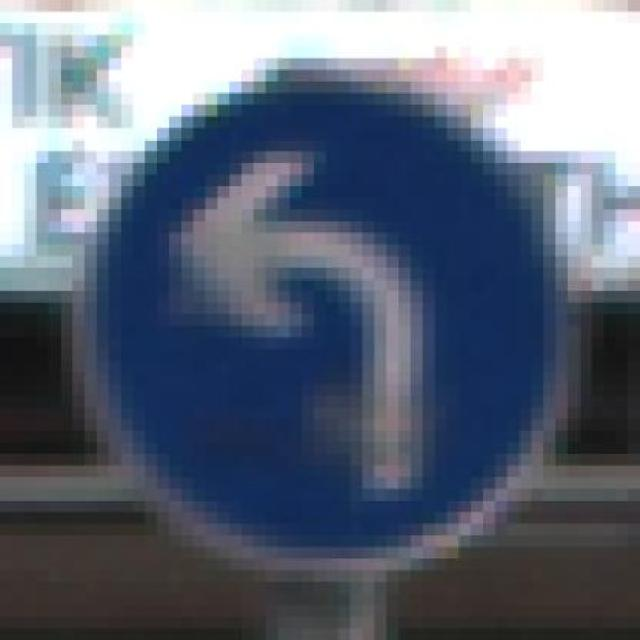Turn left ahead: (72, 46, 580, 594)
